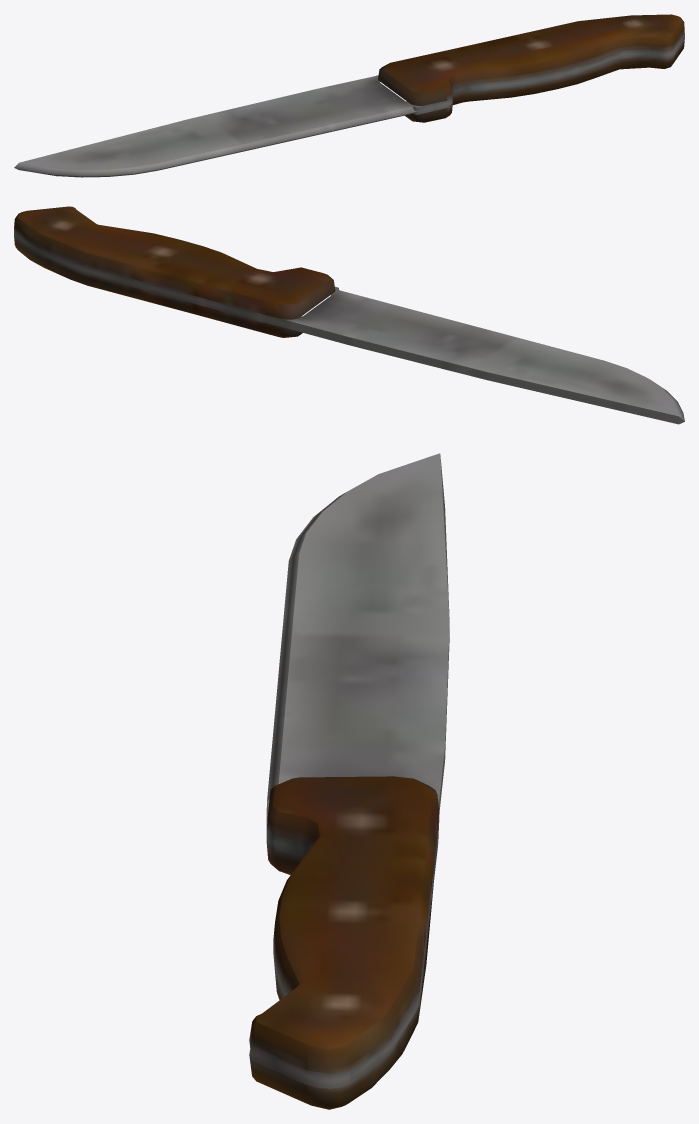
Rendered from medical_knife_c.glb.
The picture shows the model from 3 angles, top to bottom: view 1: azimuth 30°, elevation 25°; view 2: azimuth 150°, elevation 25°; view 3: azimuth 270°, elevation 25°; orthographic projection. The views are drawn at different scales.
Visible parts, largest first — view 1: Medical_Knife_c; view 2: Medical_Knife_c; view 3: Medical_Knife_c.
Boxes of the visible parts, x1,y1,x2,y2 form: Medical_Knife_c: (14, 14, 684, 177); Medical_Knife_c: (14, 206, 684, 424); Medical_Knife_c: (249, 453, 449, 1109).
Bounding box in the file's own units: 0.3625 × 0.0185 × 0.049.
Materials: 1 (1 with a texture image).
